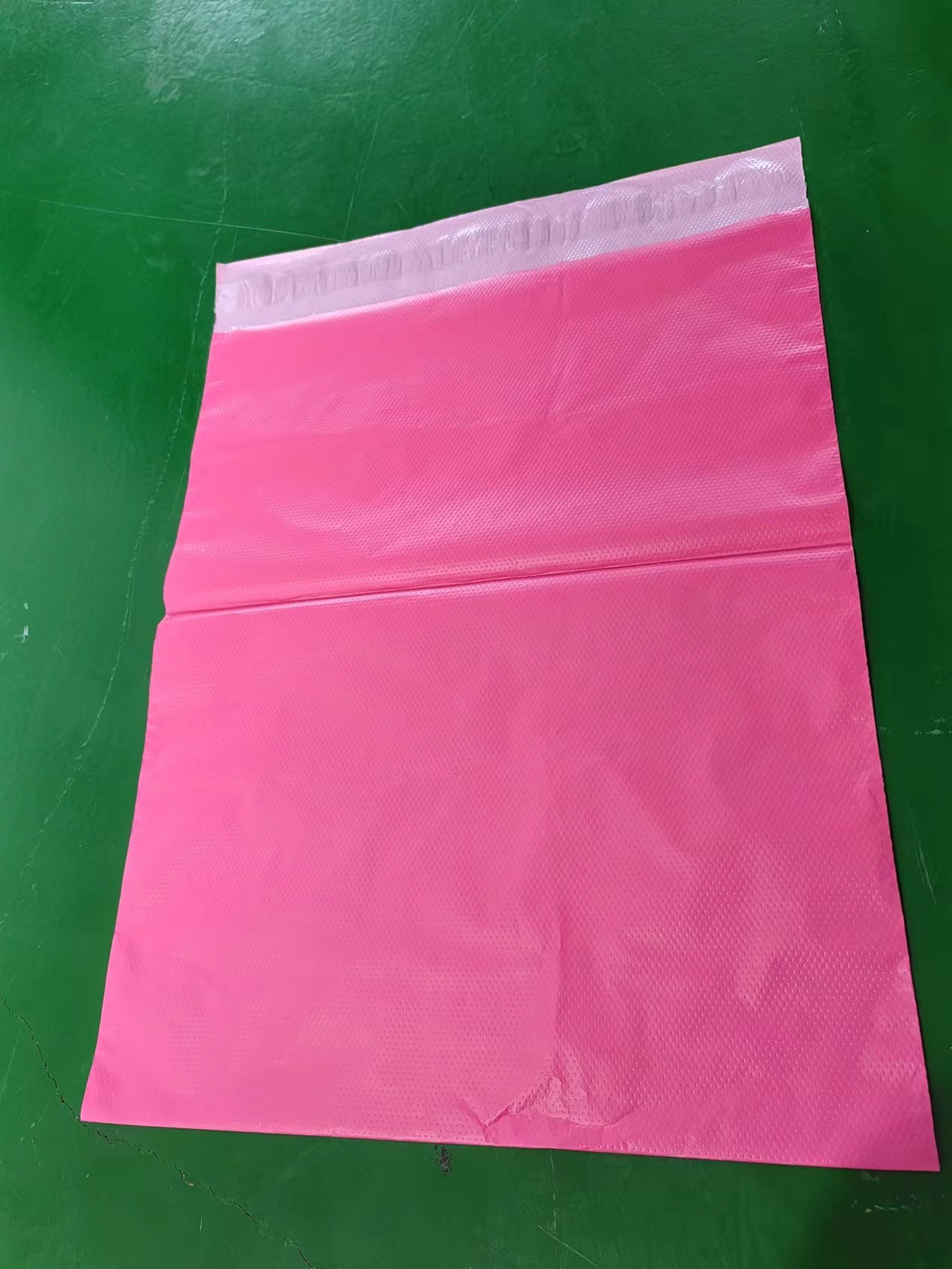塑料袋: (83, 141, 936, 1168)
